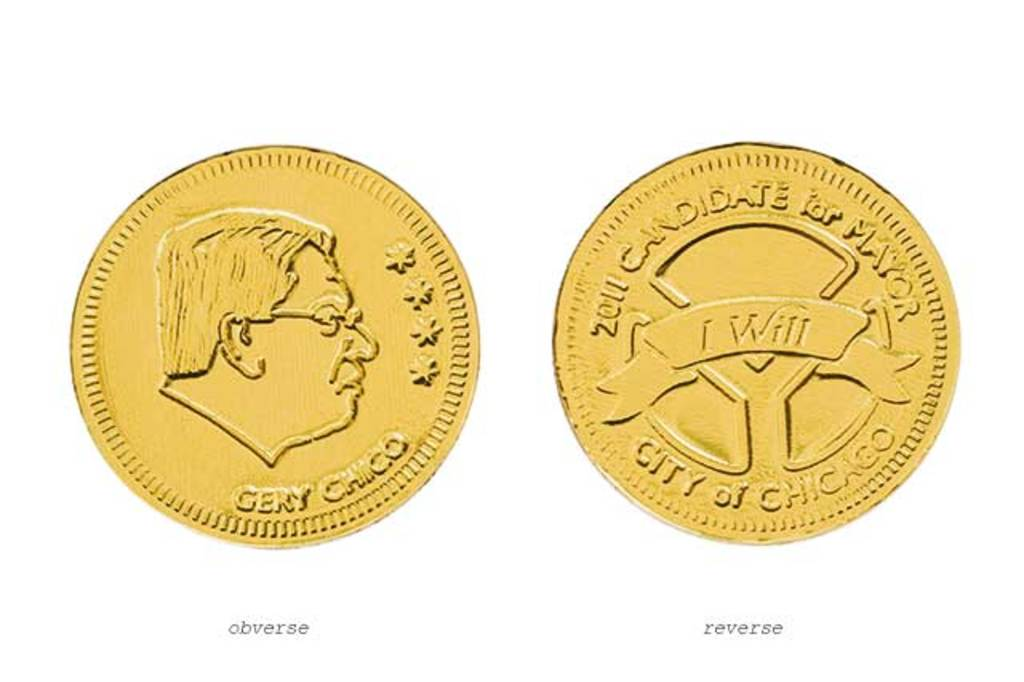Coin: (67, 143, 482, 552), (551, 140, 961, 546)
